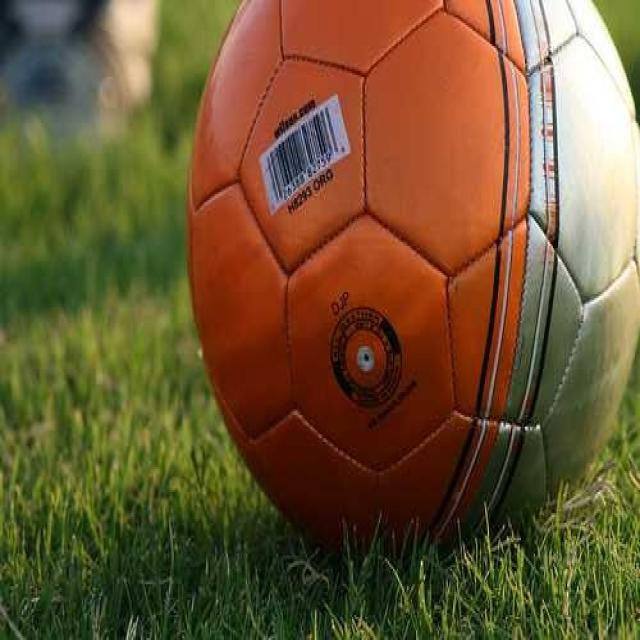ball: (186, 0, 640, 554)
